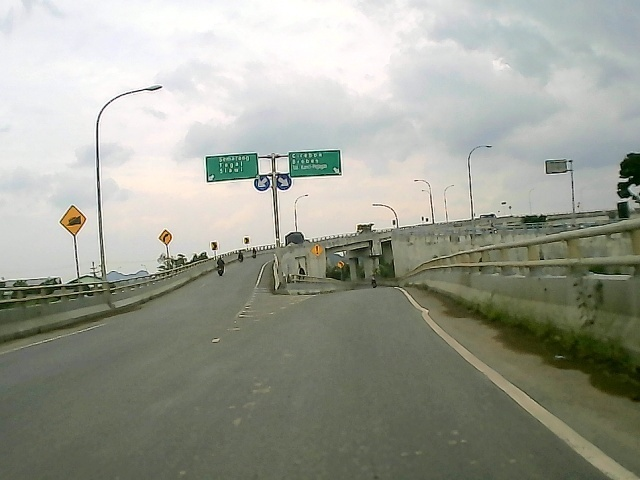Hati-hati: (311, 244, 324, 259)
Jalanan menanjak: (57, 203, 90, 236)
Tikungan ke kanan: (156, 229, 176, 248)
